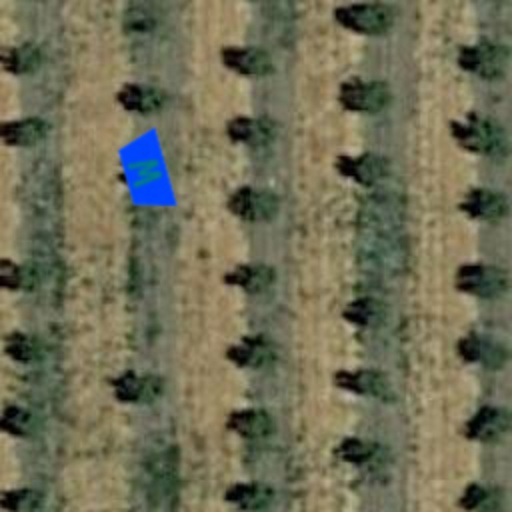trapezoid: (94, 120, 198, 224)
